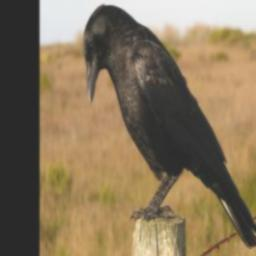Crow: (83, 4, 256, 249)
